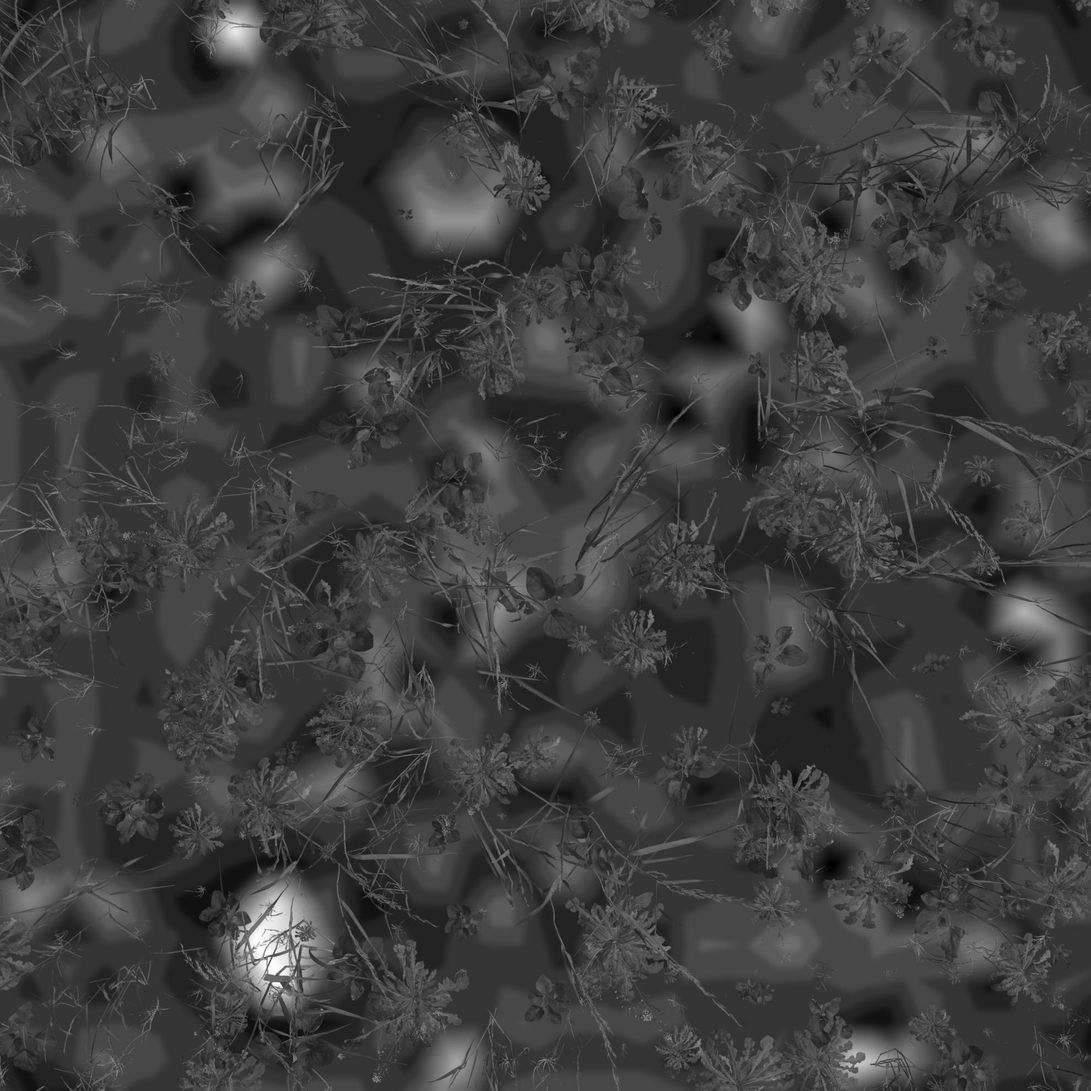landmine: (342, 68, 549, 283), (170, 841, 371, 1043), (695, 553, 861, 727)
